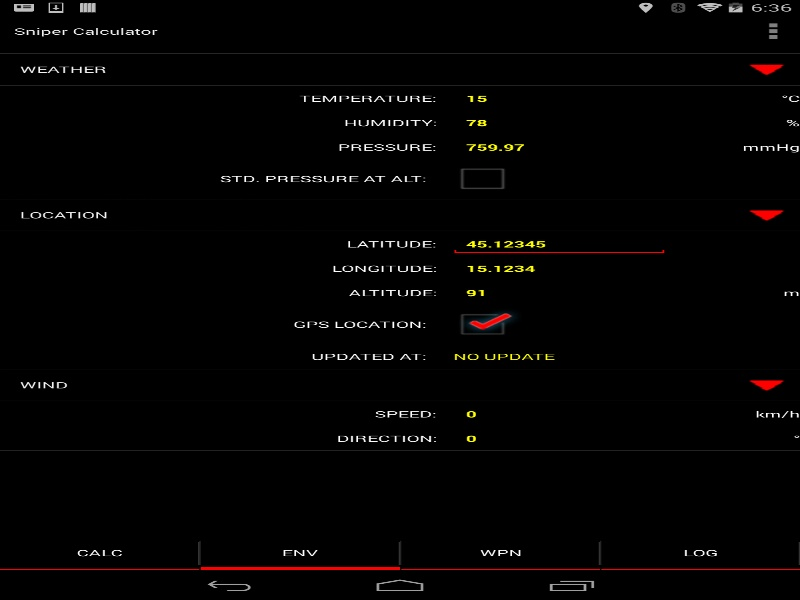Button: (746, 18, 800, 43)
Input: (450, 88, 668, 109), (450, 112, 668, 133), (450, 137, 668, 158), (450, 234, 668, 255), (450, 258, 668, 279), (450, 282, 668, 303), (450, 404, 668, 425), (450, 428, 668, 449)
